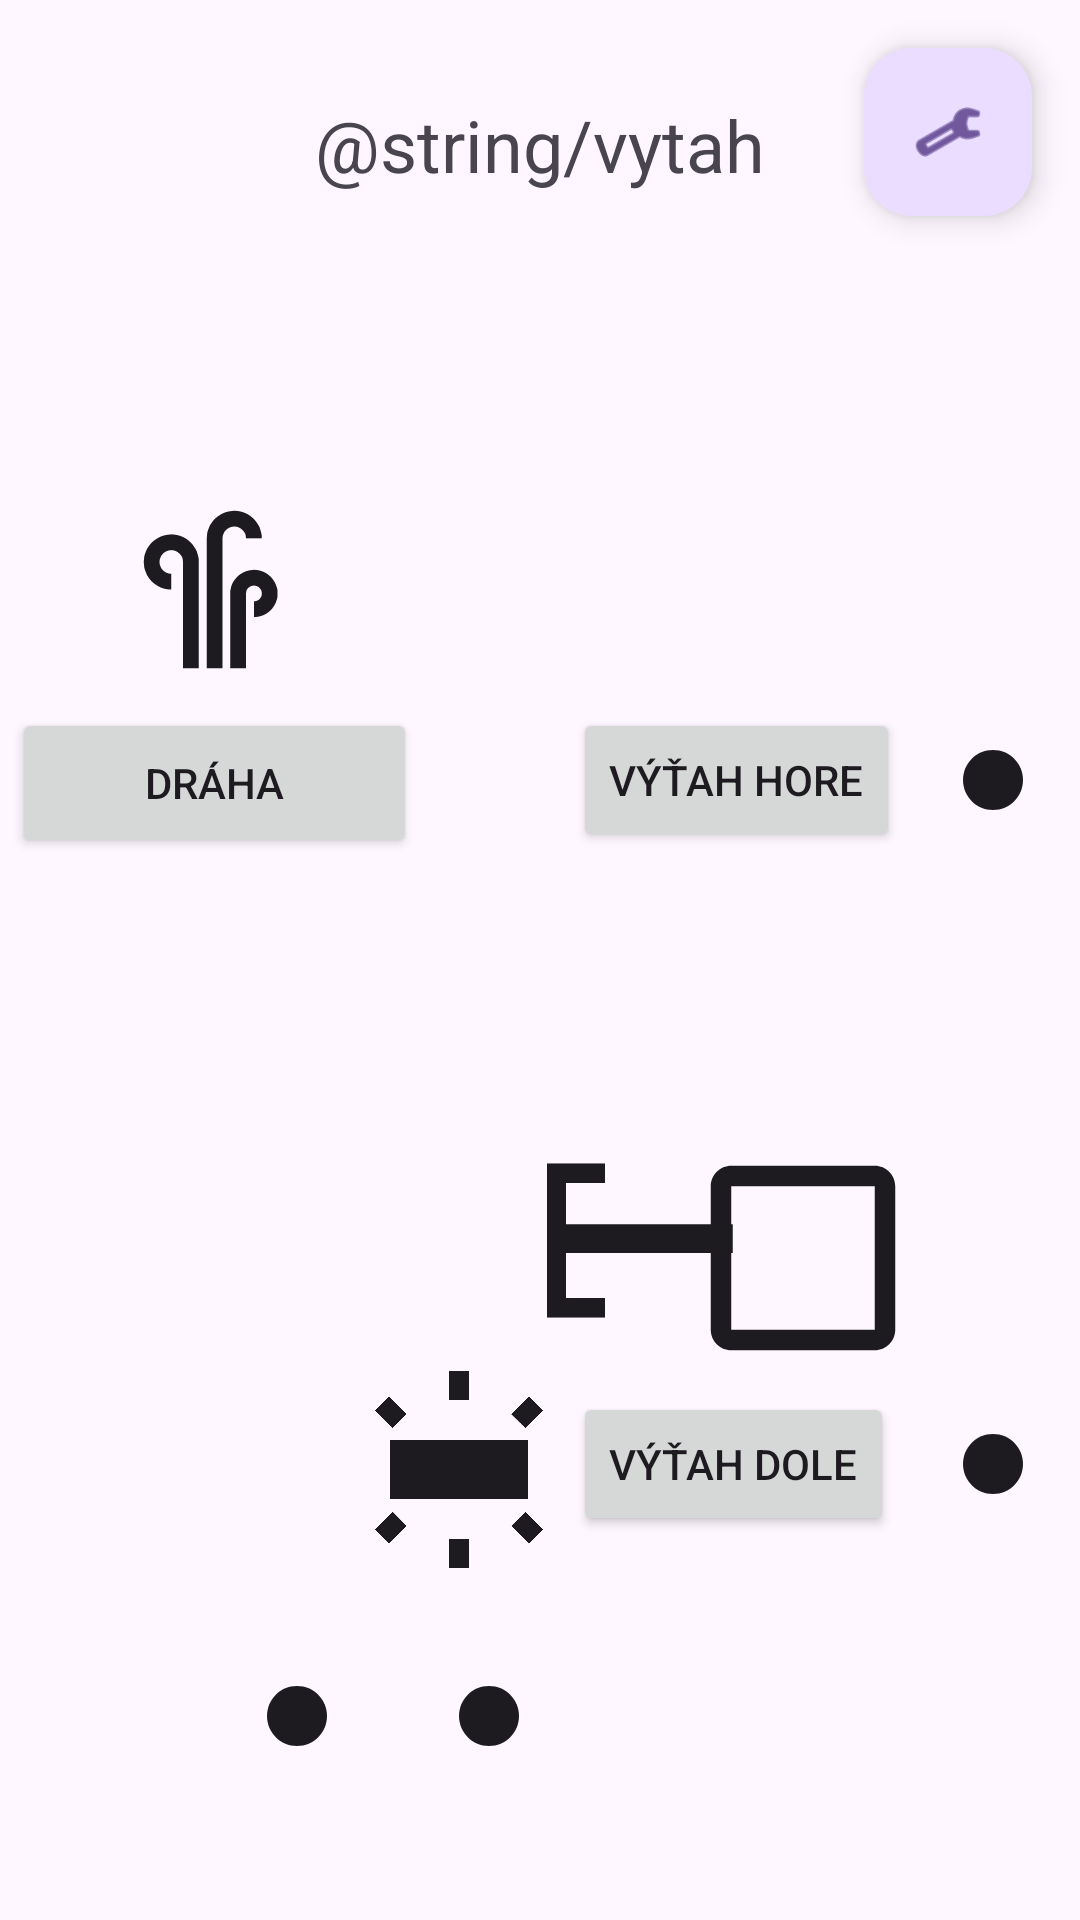

Screen size 1080w x 1920h. Icon name, then its box in pixels as box=[x1, y1, x2, y2]:
fluorescent: box=[375, 1371, 543, 1568]
preferences: box=[864, 48, 1032, 216]
